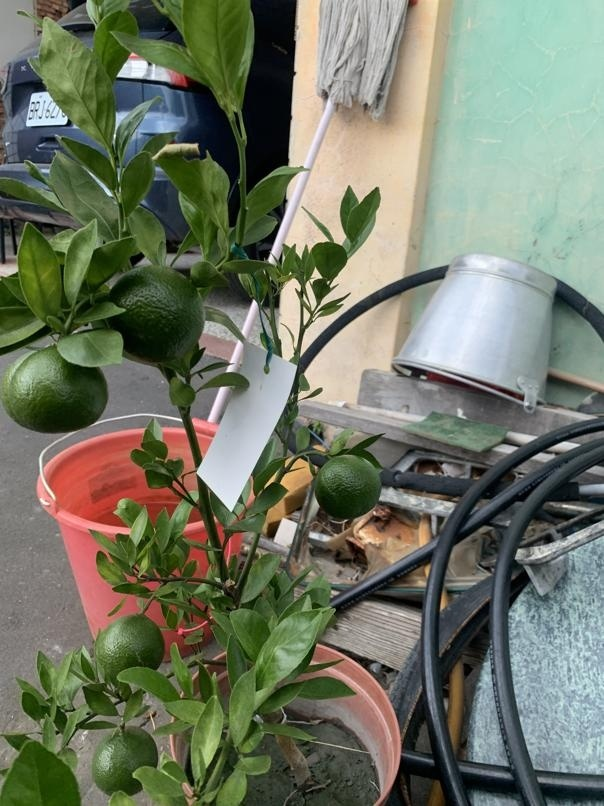Tangerine: (99, 265, 205, 364), (5, 341, 109, 434), (94, 613, 166, 688), (311, 452, 382, 523), (95, 726, 159, 795)
